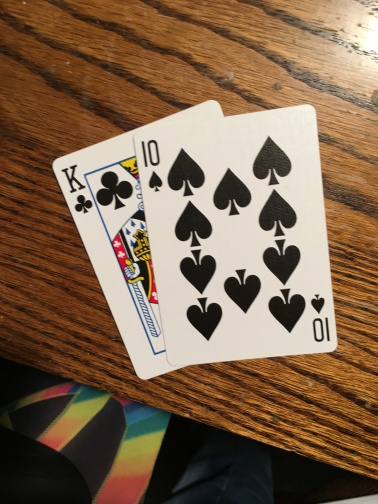king: (52, 157, 172, 381)
ten: (131, 105, 343, 366)
